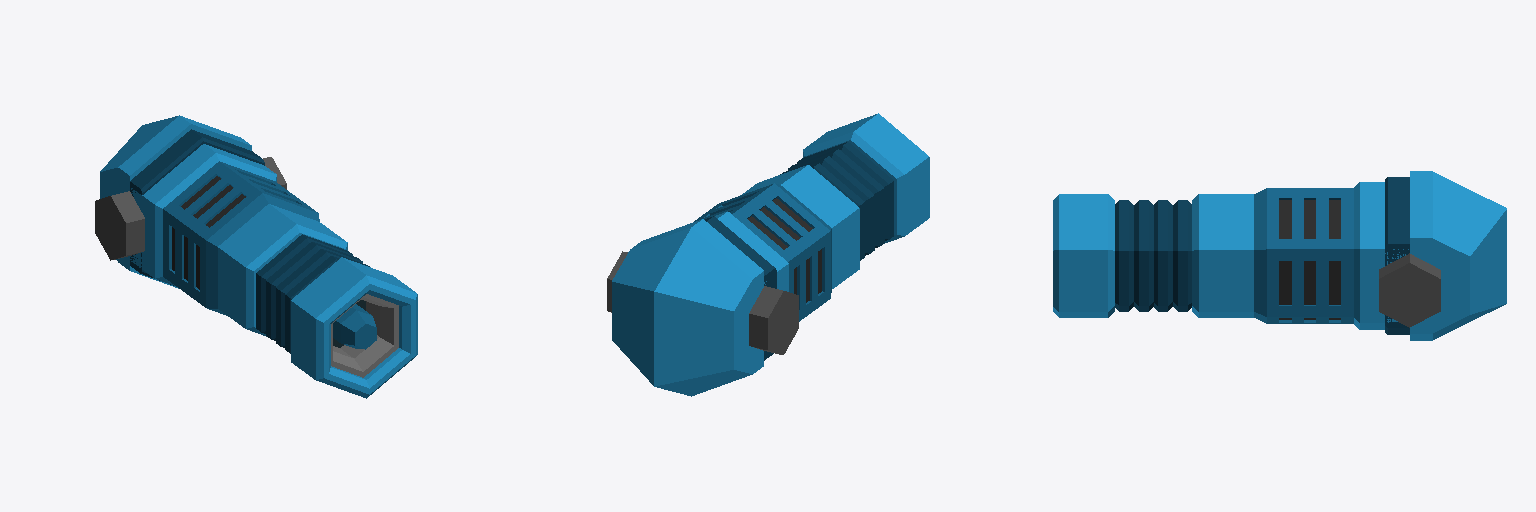
Rendered from barrel.obj.
3 views of the same model, side by side, from view 1: azimuth 30°, elevation 25°; view 2: azimuth 150°, elevation 25°; view 3: azimuth 270°, elevation 25° (orthographic).
Parts seen in each view (by area): view 1: object13.001, object9.001, object16.001, object6.001, object7.001, object2.001, object1.001, object8.001, object4.001; view 2: object13.001, object16.001, object9.001, object6.001, object7.001, object4.001, object1.001; view 3: object13.001, object16.001, object6.001, object9.001, object7.001, object4.001, object1.001.
Boxes of the visible parts, <box> form: object13.001: <box>100,115,347,336</box>; object9.001: <box>291,257,417,398</box>; object16.001: <box>163,161,319,315</box>; object6.001: <box>256,234,369,353</box>; object7.001: <box>95,157,286,260</box>; object2.001: <box>331,294,398,377</box>; object1.001: <box>130,129,264,285</box>; object8.001: <box>333,304,376,349</box>; object4.001: <box>172,176,245,289</box>; object13.001: <box>612,165,859,396</box>; object16.001: <box>694,183,831,321</box>; object9.001: <box>803,113,929,243</box>; object6.001: <box>780,142,893,260</box>; object7.001: <box>607,251,798,354</box>; object4.001: <box>748,198,821,302</box>; object1.001: <box>705,216,776,360</box>; object13.001: <box>1192,171,1506,340</box>; object16.001: <box>1254,188,1353,323</box>; object6.001: <box>1115,200,1191,311</box>; object9.001: <box>1053,194,1114,317</box>; object7.001: <box>1379,253,1440,327</box>; object4.001: <box>1279,200,1340,319</box>; object1.001: <box>1385,177,1409,334</box>.
Size of the model in its own units: 0.7974 by 0.7998 by 1.95.